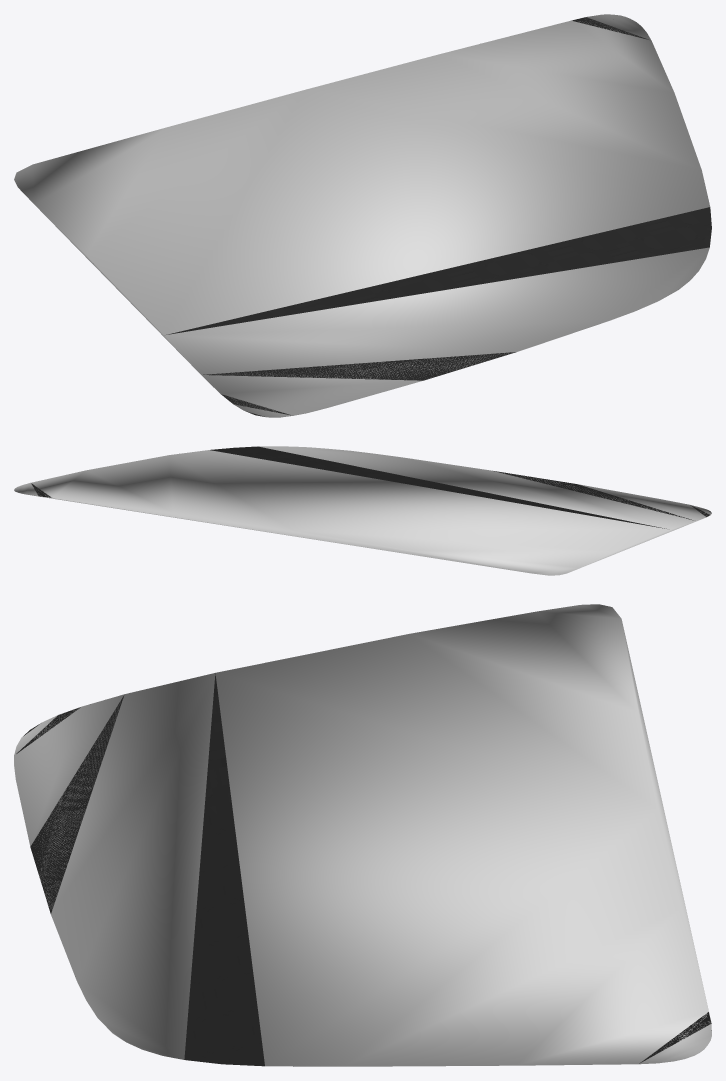
The picture shows the model from 3 angles, top to bottom: view 1: azimuth 30°, elevation 25°; view 2: azimuth 150°, elevation 25°; view 3: azimuth 270°, elevation 25°; orthographic projection. The views are drawn at different scales.
Parts seen in each view (by area): view 1: grille_stampede_head_r_1_01_col, grille_stampede_head_r_1_01; view 2: grille_stampede_head_r_1_01_col, grille_stampede_head_r_1_01; view 3: grille_stampede_head_r_1_01_col, grille_stampede_head_r_1_01.
Boxes of the visible parts, x1=… form: grille_stampede_head_r_1_01_col: x1=14, y1=14, x2=710, y2=417; grille_stampede_head_r_1_01: x1=166, y1=17, x2=711, y2=416; grille_stampede_head_r_1_01_col: x1=14, y1=446, x2=711, y2=575; grille_stampede_head_r_1_01: x1=31, y1=446, x2=711, y2=528; grille_stampede_head_r_1_01_col: x1=14, y1=604, x2=711, y2=1066; grille_stampede_head_r_1_01: x1=16, y1=673, x2=711, y2=1066.
Bounding box in the file's own units: 0.4723 × 0.0653 × 0.3293.
1 material, 1 textured.
